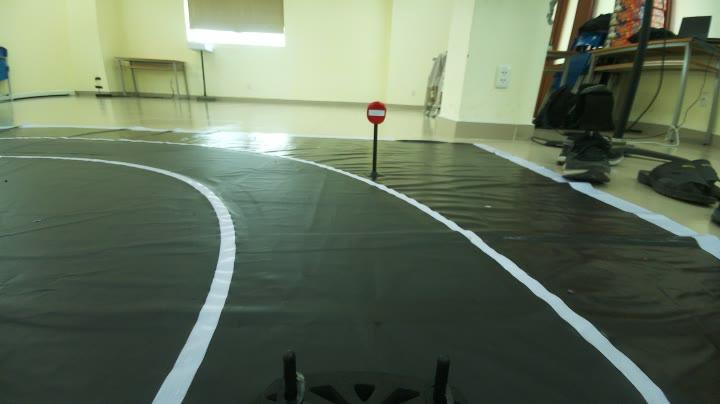no_entry: (365, 97, 388, 127)
